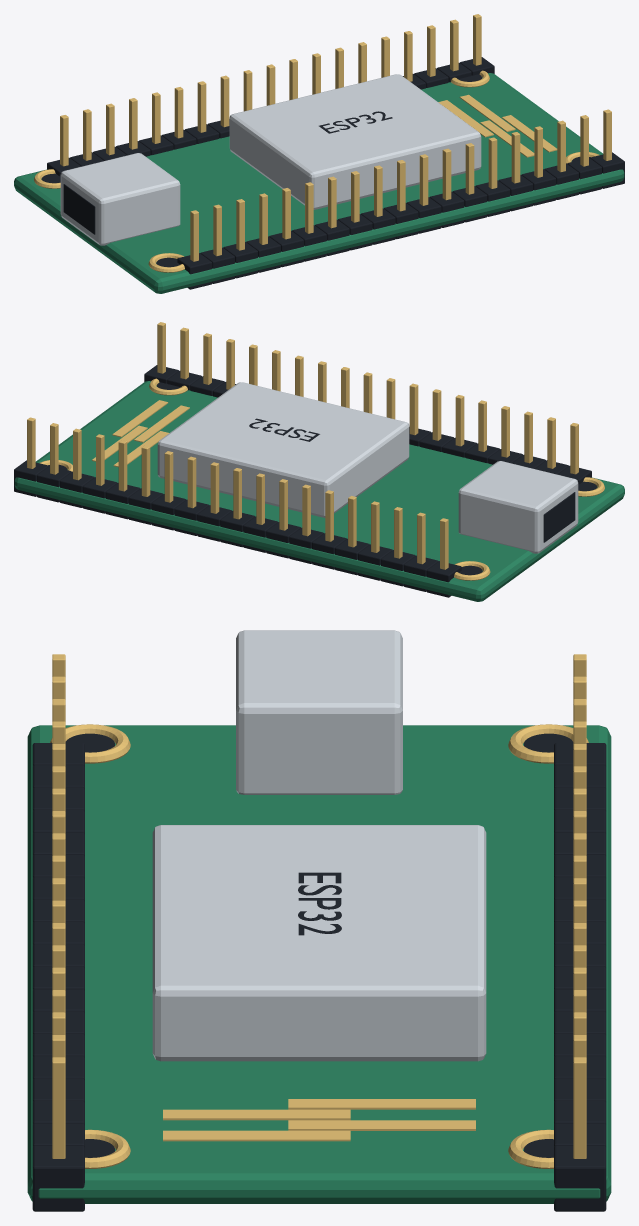
The model's file is esp32.glb.
The picture shows the model from 3 angles, top to bottom: view 1: azimuth 30°, elevation 25°; view 2: azimuth 150°, elevation 25°; view 3: azimuth 270°, elevation 25°; orthographic projection. The views are drawn at different scales.
Visible parts, largest first — view 1: Static body • silver, Static body • greenPCB, Static body • gold, Static body • black; view 2: Static body • silver, Static body • greenPCB, Static body • gold, Static body • black; view 3: Static body • greenPCB, Static body • silver, Static body • black, Static body • gold.
Part boxes in pixels (left/top/right/bottom): Static body • silver: left=60, top=74, right=481, bottom=245; Static body • greenPCB: left=14, top=73, right=624, bottom=293; Static body • gold: left=34, top=14, right=611, bottom=272; Static body • black: left=41, top=57, right=624, bottom=289; Static body • silver: left=157, top=382, right=578, bottom=553; Static body • greenPCB: left=14, top=381, right=624, bottom=601; Static body • gold: left=27, top=322, right=604, bottom=580; Static body • black: left=14, top=365, right=597, bottom=597; Static body • greenPCB: left=27, top=725, right=611, bottom=1203; Static body • silver: left=152, top=630, right=486, bottom=1061; Static body • black: left=32, top=733, right=606, bottom=1211; Static body • gold: left=50, top=654, right=588, bottom=1168.
Bounding box in the file's own units: 52.6 × 7.5 × 28.
